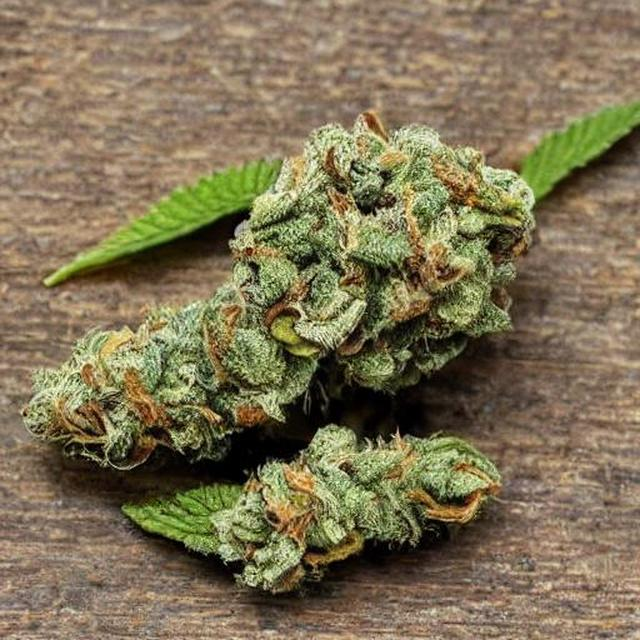Marijuana Plant: (0, 0, 620, 639)
